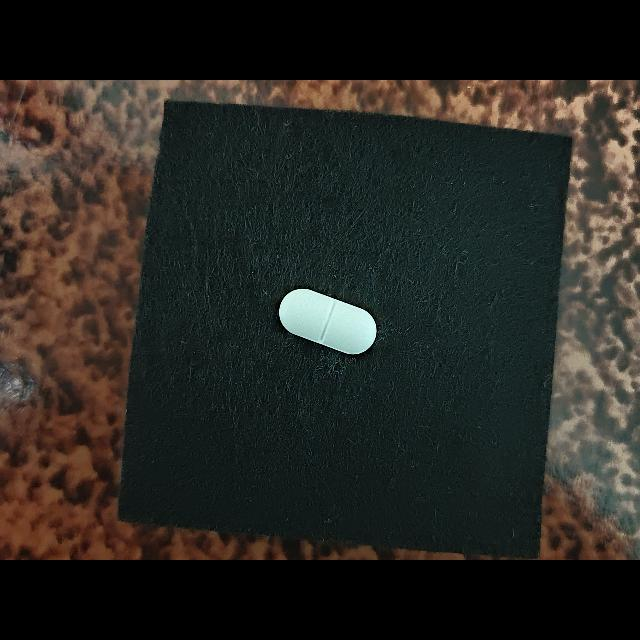Intact Pill: (279, 288, 376, 355)
